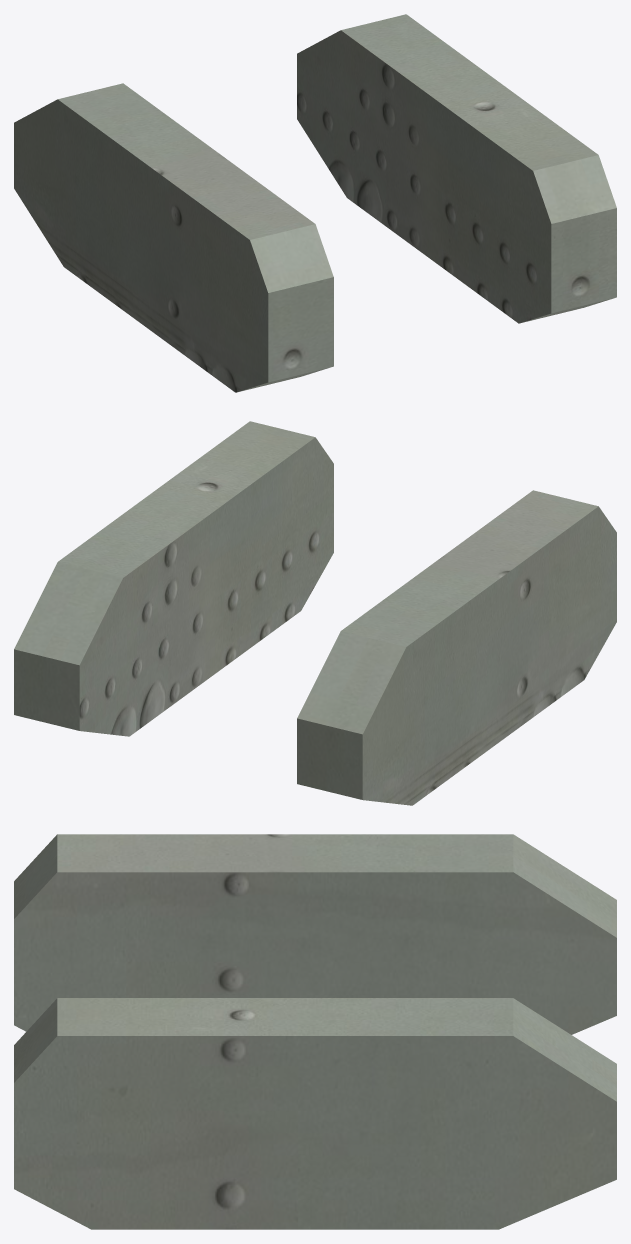
The model's file is Low_Poly_Tracks_textured.obj.
3 renders of one model, top to bottom at view 1: azimuth 30°, elevation 25°; view 2: azimuth 150°, elevation 25°; view 3: azimuth 270°, elevation 25°, orthographic. The views are drawn at different scales.
Parts seen in each view (by area): view 1: Tracks; view 2: Tracks; view 3: Tracks.
Part boxes in pixels (x1,y1,x2,y2): Tracks: (14, 14, 616, 392); Tracks: (14, 421, 616, 805); Tracks: (14, 834, 616, 1229).
Size of the model in its own units: 37.22 by 16.65 by 47.
